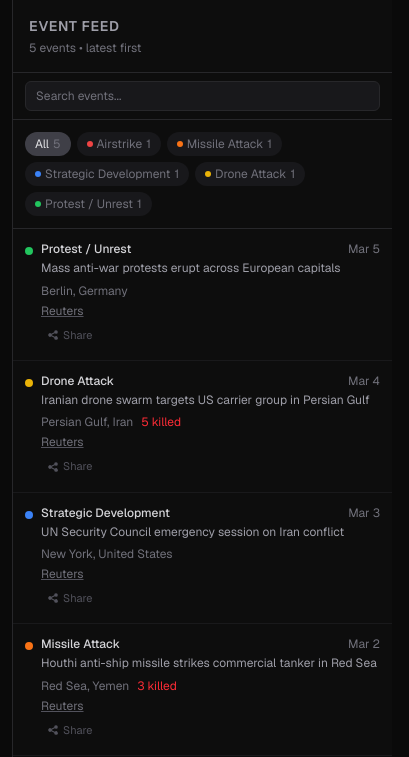
EventPanel › filter chip toggles event type filter
This screenshot has width=409, height=757.
# Click on "Airstrike" filter chip (first match is the chip)
Click the 1st text "Airstrike" at (119, 144), box [97,136,142,152]
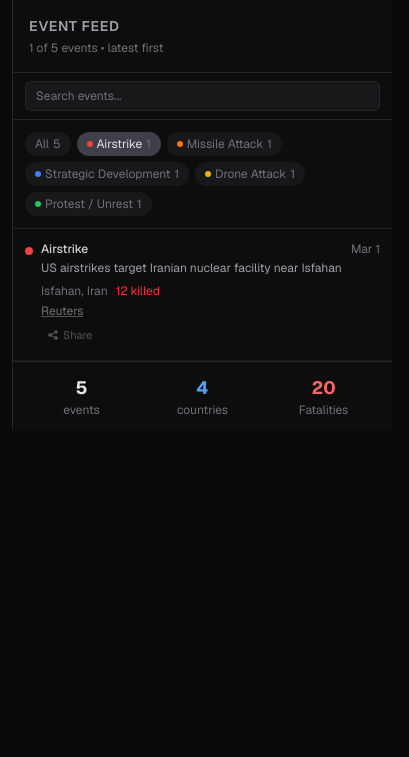
Check: the text "US airstrikes target Iranian nuclear facility near Isfahan" is shown, box [41,260,342,276]
Check: the button "Houthi anti-ship missile strikes commercial tanker in Red Sea" is gone
